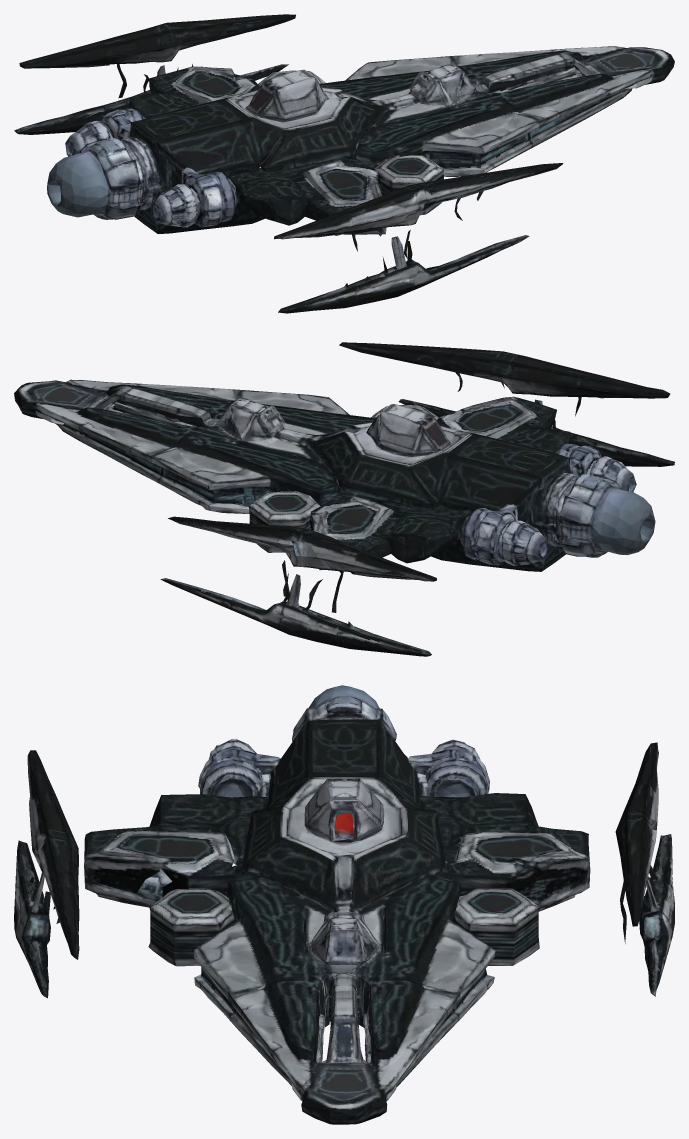
Rendered from 04_驅逐艦.glb.
3 renders of one model, top to bottom at view 1: azimuth 30°, elevation 25°; view 2: azimuth 150°, elevation 25°; view 3: azimuth 270°, elevation 25°, orthographic. The views are drawn at different scales.
Parts seen in each view (by area): view 1: part_1; view 2: part_1; view 3: part_1.
Part boxes in pixels (x1,y1,x2,y2): part_1: (14,14,674,313); part_1: (14,342,674,656); part_1: (14,685,674,1124).
Size of the model in its own units: 1 by 0.197 by 0.7234.
Materials: 1 (1 with a texture image).
